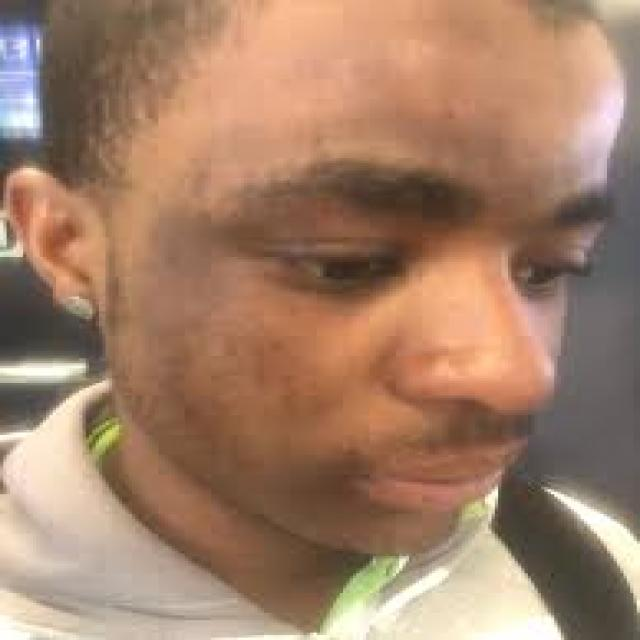pigmentation: (138, 215, 261, 387)
